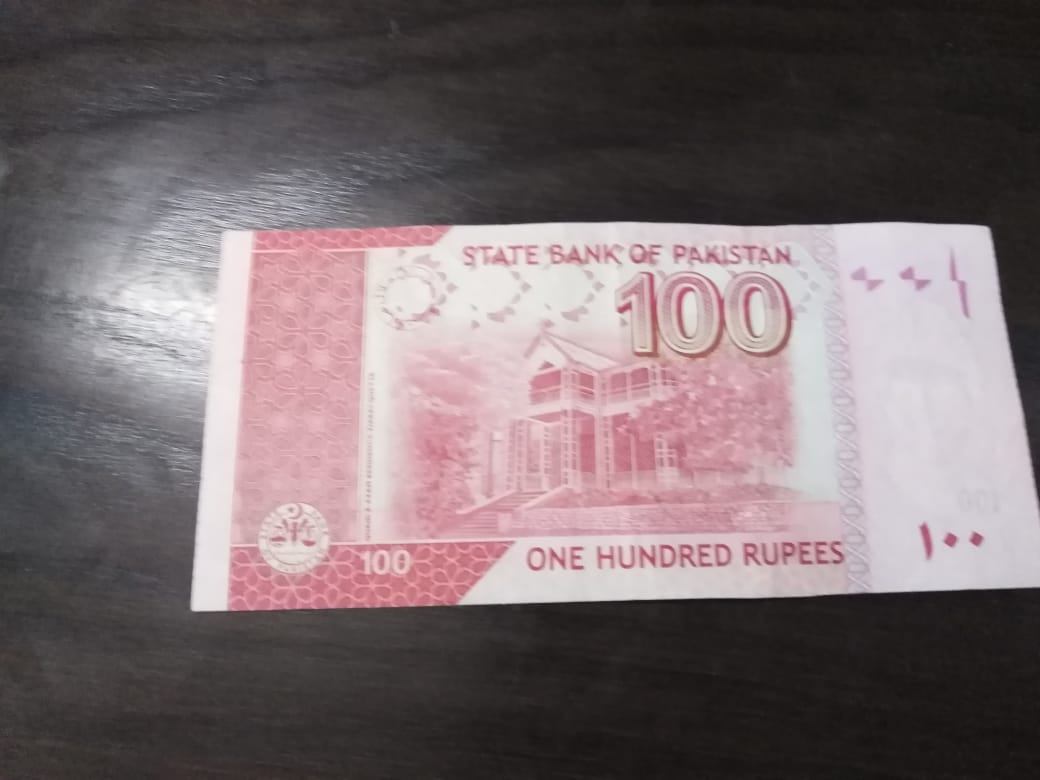100 rupee: (186, 211, 1040, 607)
